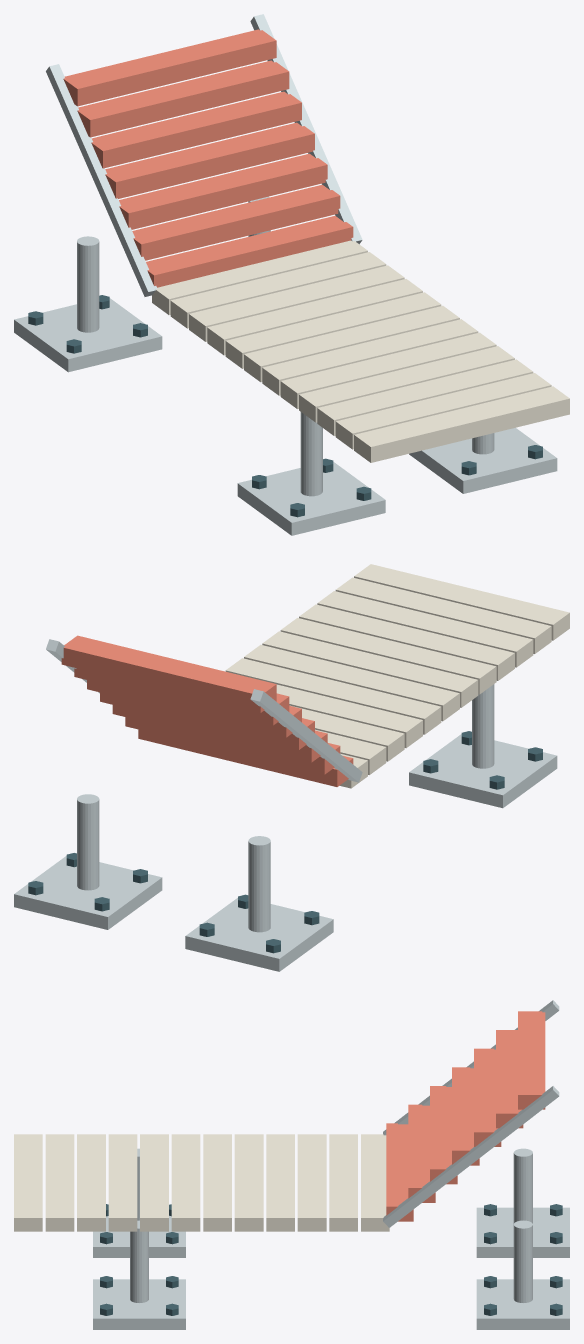
File: waterpark-and-pool-operations-waterpark-and-pool-opera-d891094b__28967.glb
3 views of the same model, one above another, from view 1: azimuth 30°, elevation 25°; view 2: azimuth 150°, elevation 25°; view 3: azimuth 270°, elevation 25° (orthographic). The views are drawn at different scales.
Visible parts, largest first — view 1: waterpark-and-pool-operations-sun-lounger; view 2: waterpark-and-pool-operations-sun-lounger; view 3: waterpark-and-pool-operations-sun-lounger.
Part boxes in pixels (x1,y1,x2,y2): waterpark-and-pool-operations-sun-lounger: (14,14,569,535); waterpark-and-pool-operations-sun-lounger: (14,564,569,971); waterpark-and-pool-operations-sun-lounger: (14,1000,569,1329).
Size of the model in its own units: 0.96 by 0.9232 by 2.03.
